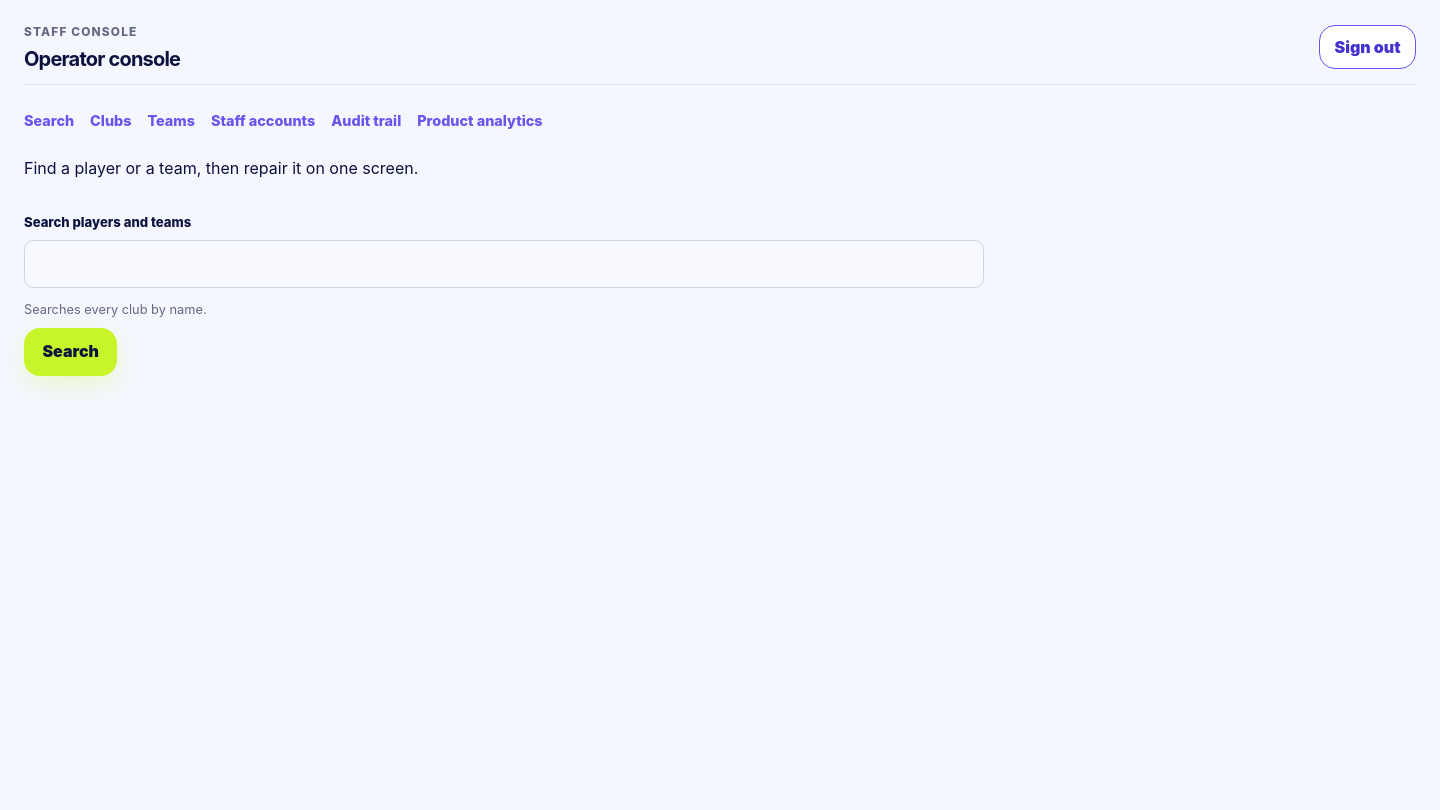
the operator's search results › makes the whole result row the link to its detail page
Type "hill" into the search field labelled "Search players and teams" at (504, 264), box [24,240,984,288]
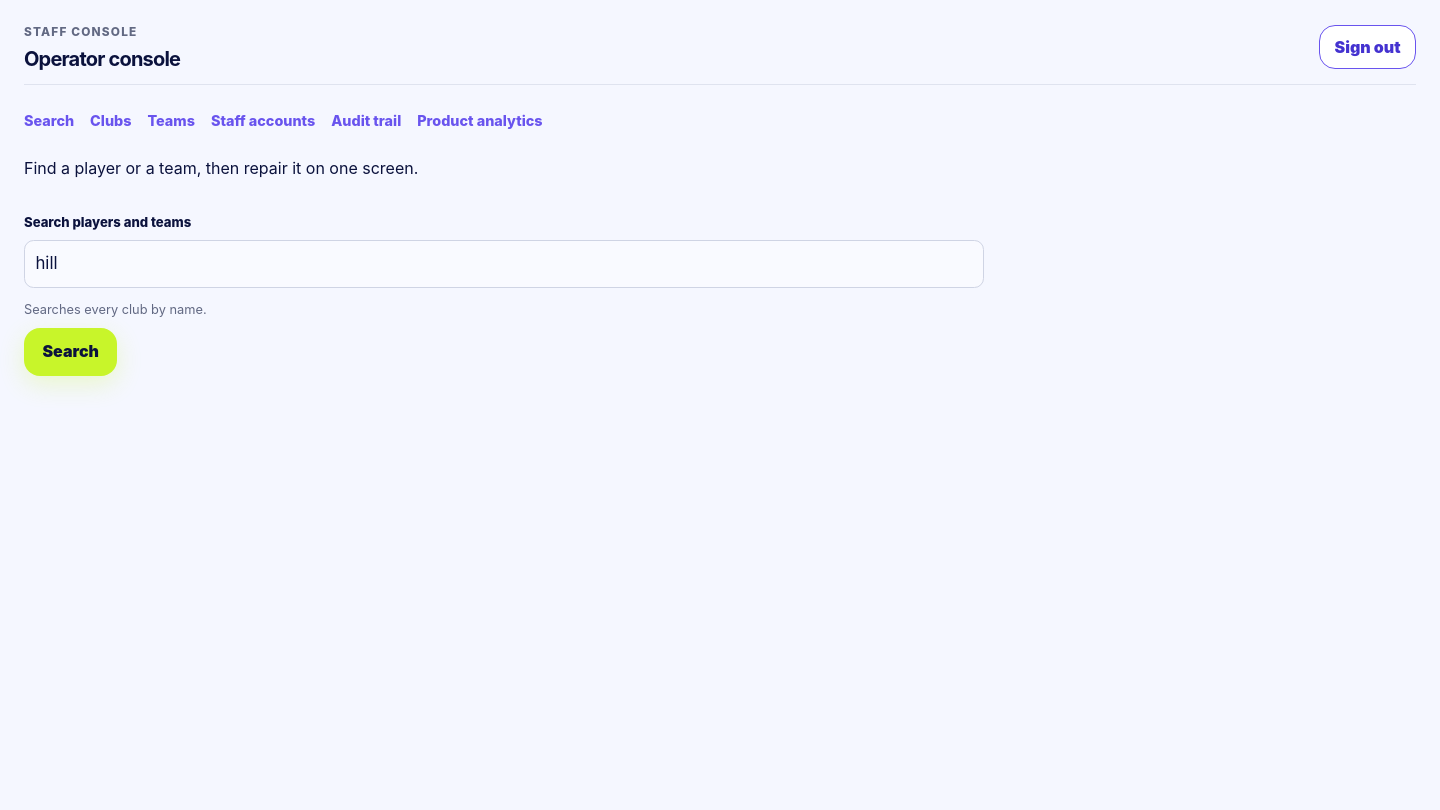
Click the button "Search" at (71, 352), box [24,328,117,376]
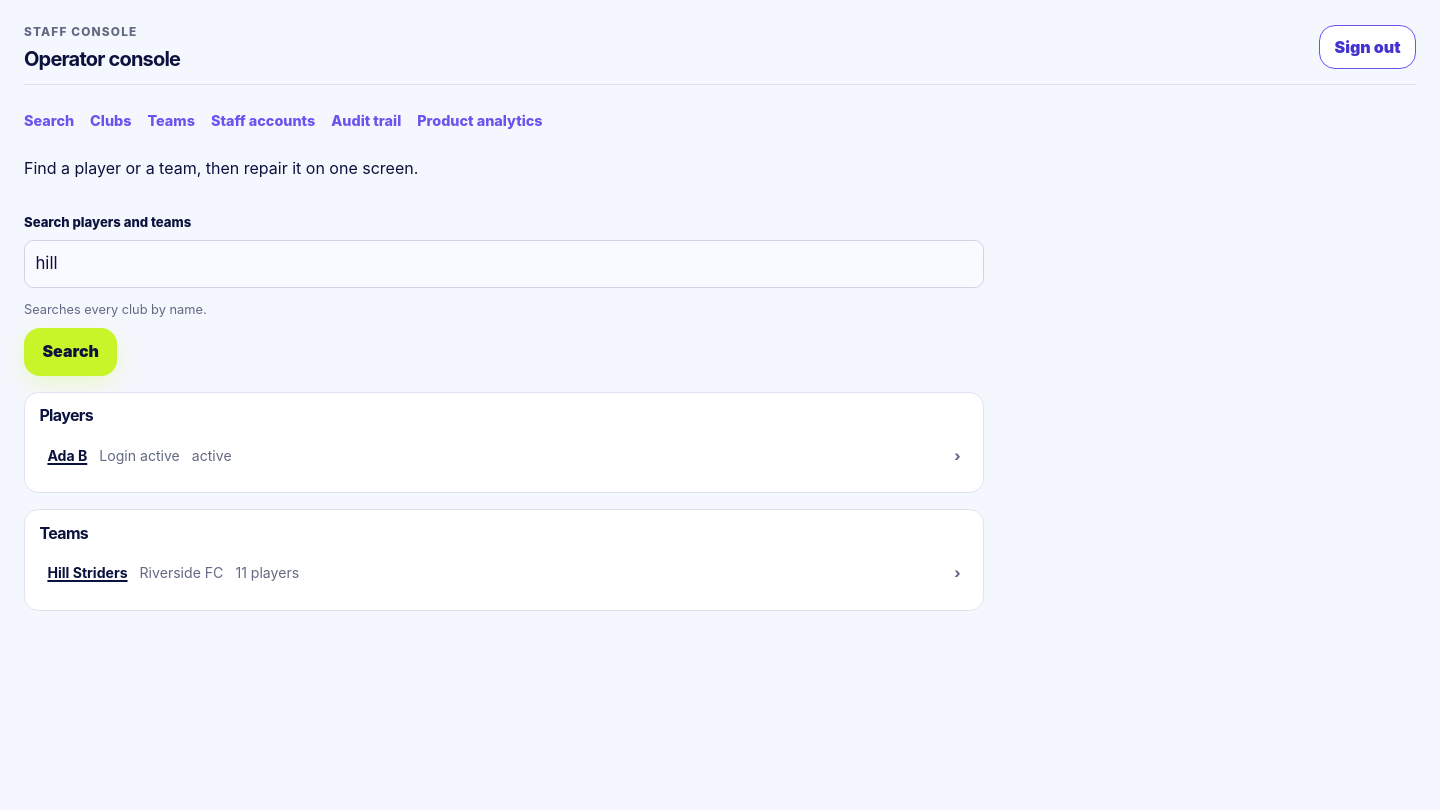
Expected: the link "Hill Striders Riverside FC 11 players ›" is shown, [47,564,961,581]
Expected: the link "Ada B Login active active ›" is shown, [47,447,961,464]
